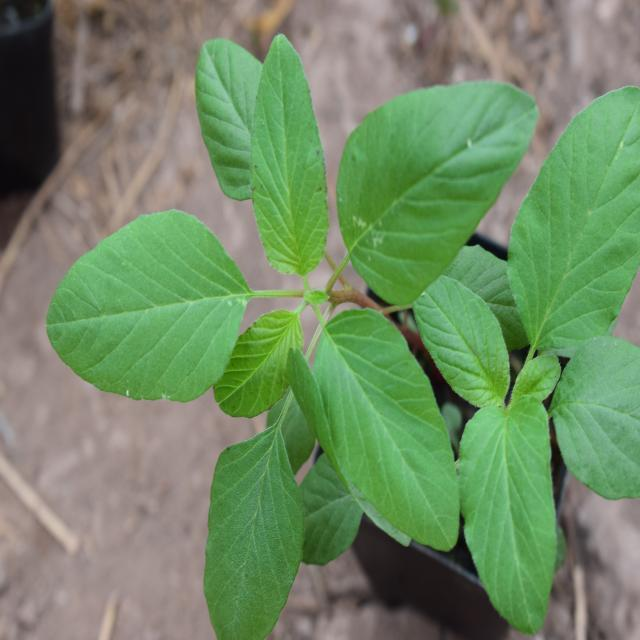pigweed: (66, 33, 525, 578)
